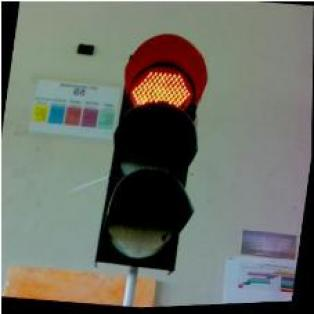Semaforo Rojo: (92, 27, 216, 276)
